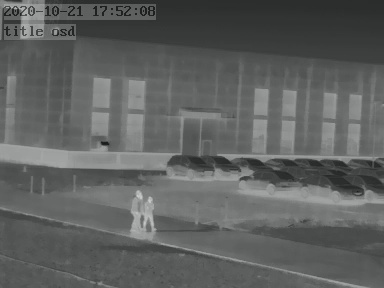person: (142, 196, 156, 235), (131, 190, 143, 232)
vehicle: (237, 169, 302, 195), (304, 173, 357, 199), (166, 153, 213, 179), (350, 173, 383, 200), (205, 153, 242, 177), (232, 154, 270, 171), (262, 155, 297, 169), (347, 156, 380, 170), (318, 156, 348, 170), (295, 155, 324, 169)
